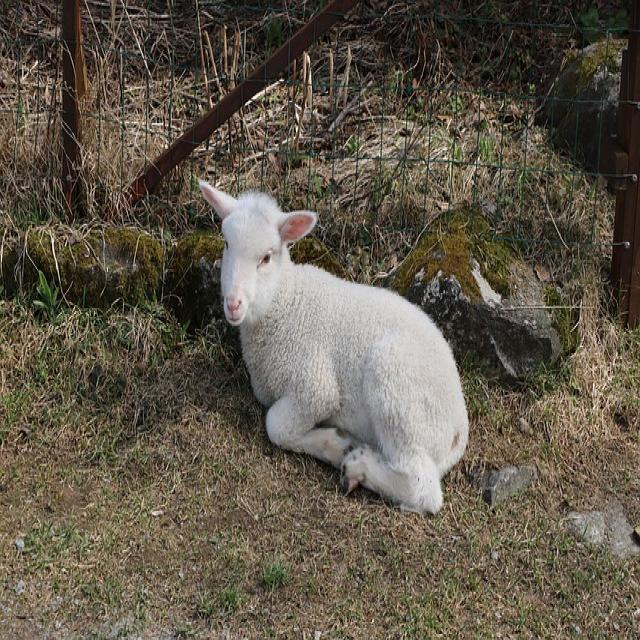sheep: (197, 176, 469, 517)
